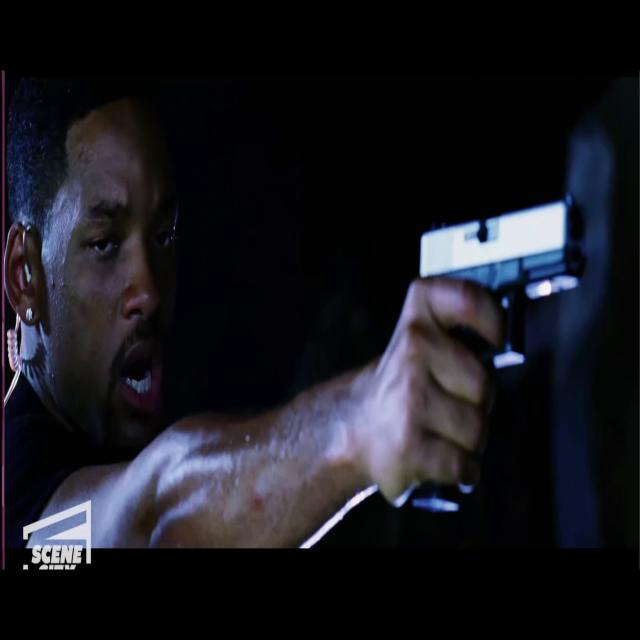weapons: (405, 188, 595, 534)
